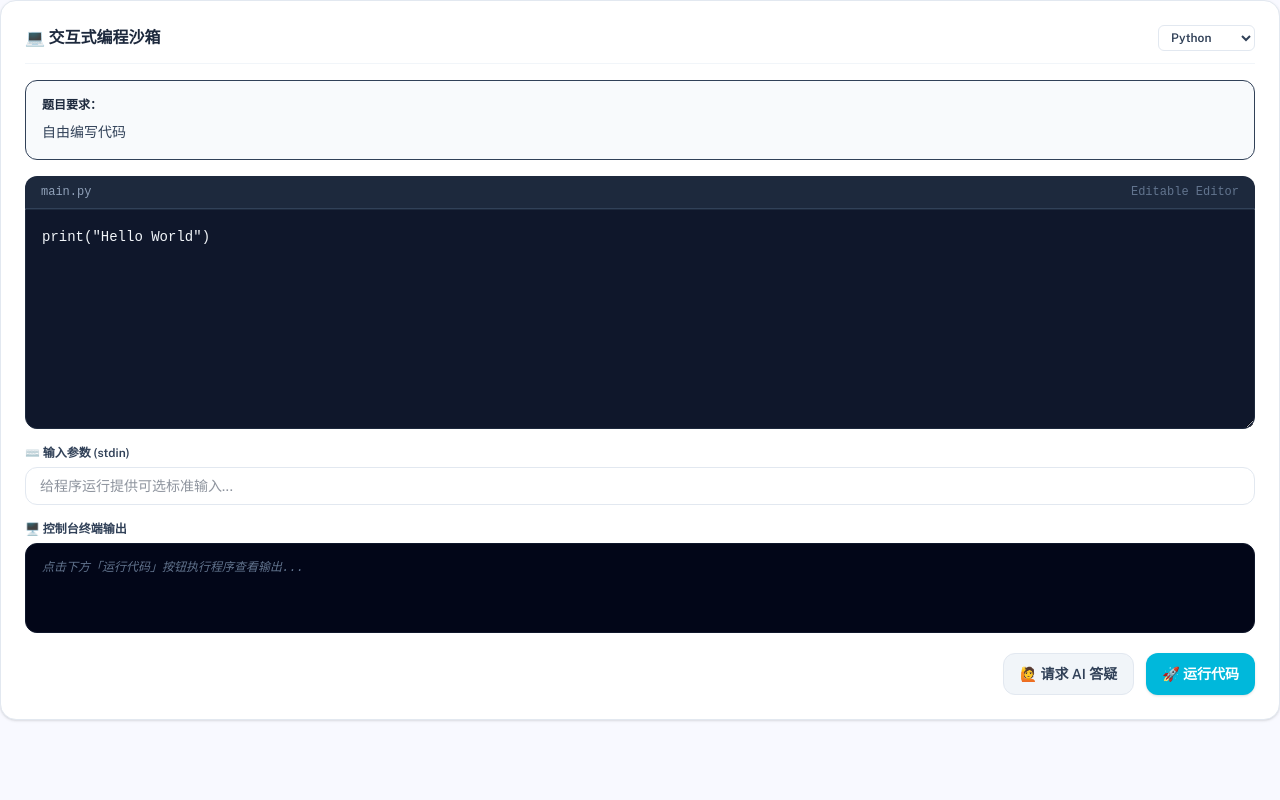
supports language selection in free sandbox mode
Select "C" in the dropdown at (1206, 38), box [1158,25,1255,51]
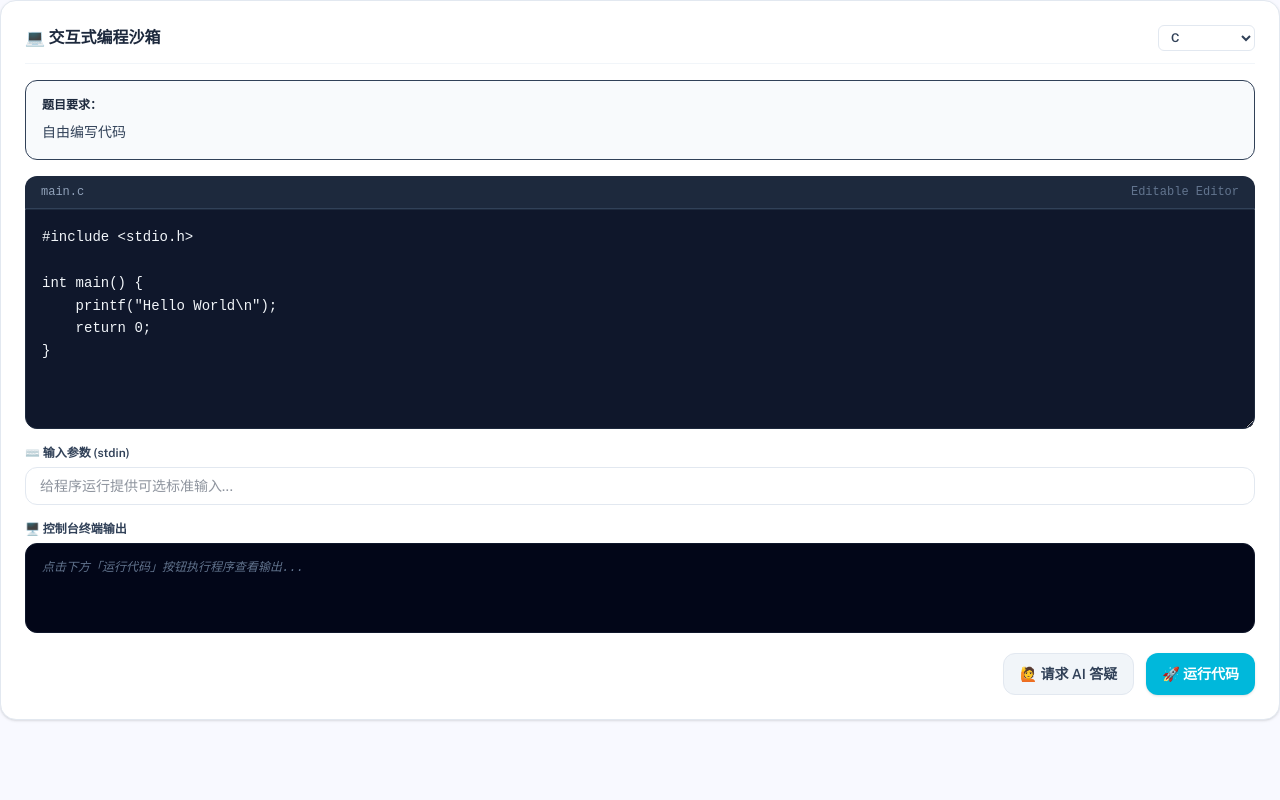
Expected: the text "main.c" is shown, [41,184,84,200]
